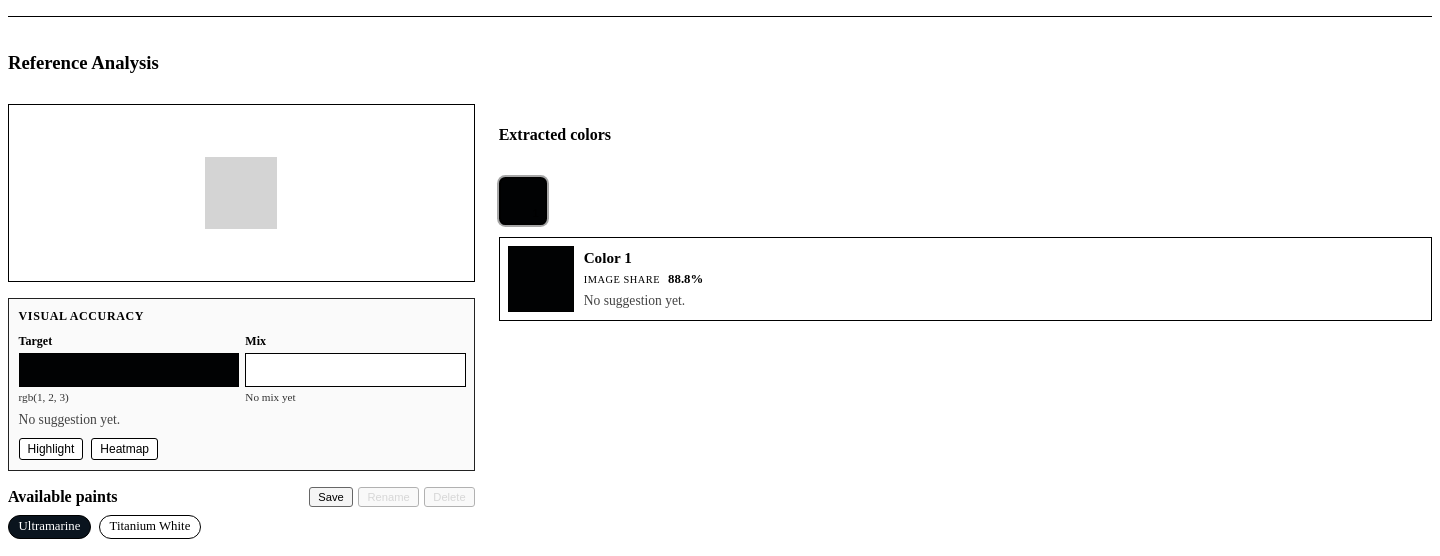
it: <ExtractedColorsPanel /> › toggles highlight state when clicking the same swatch
This screenshot has width=1440, height=556.
Step 1. Click the button with test id "extracted-swatch" → (523, 201), box [499,177,547,225]
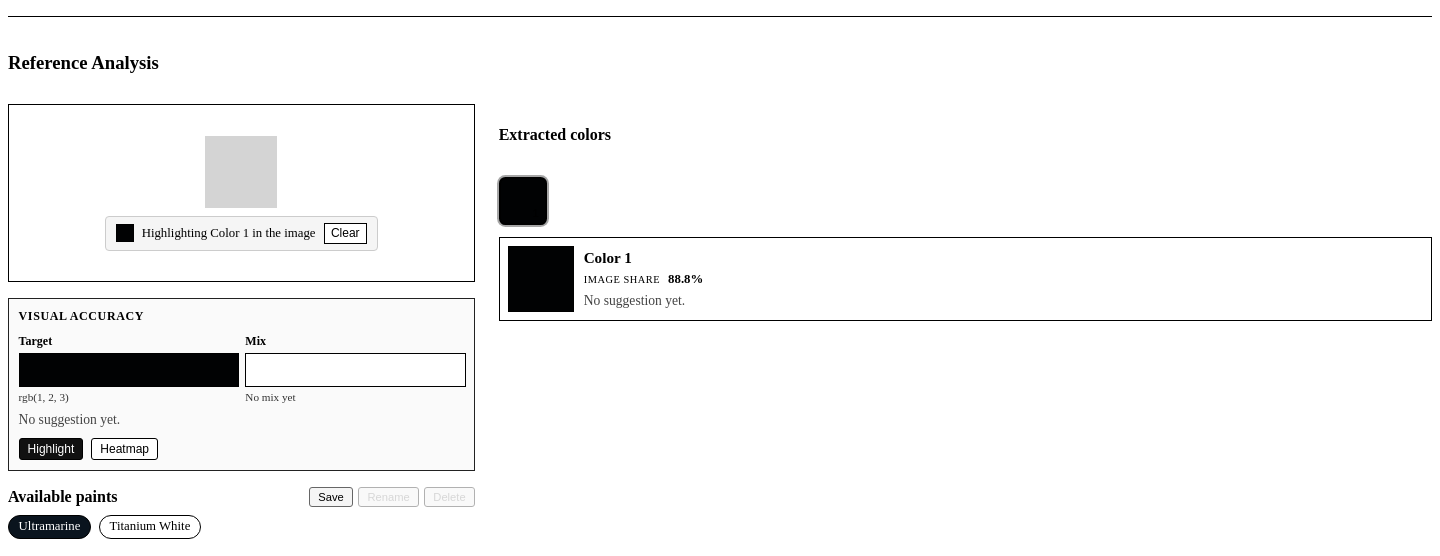
Result: the text "Highlighting Color 1 in the image" is shown at [142,226,316,241]
Step 2. Click the button with test id "extracted-swatch" → (523, 201), box [499,177,547,225]
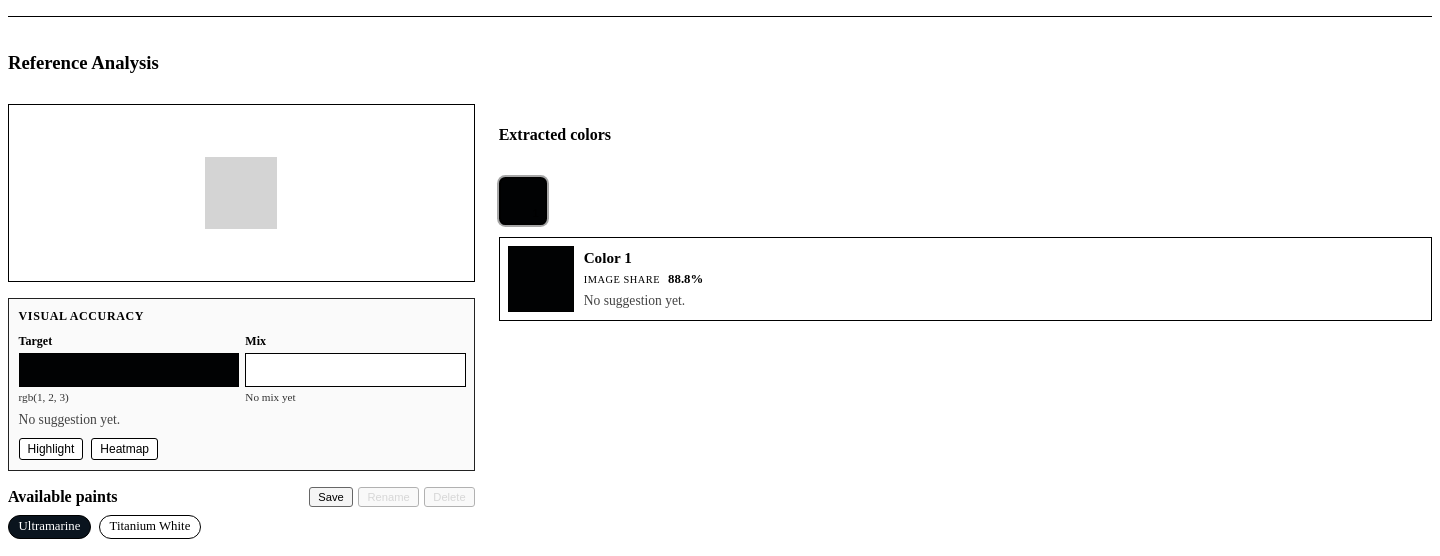
Result: the text "Highlighting Color 1 in the image" is gone
